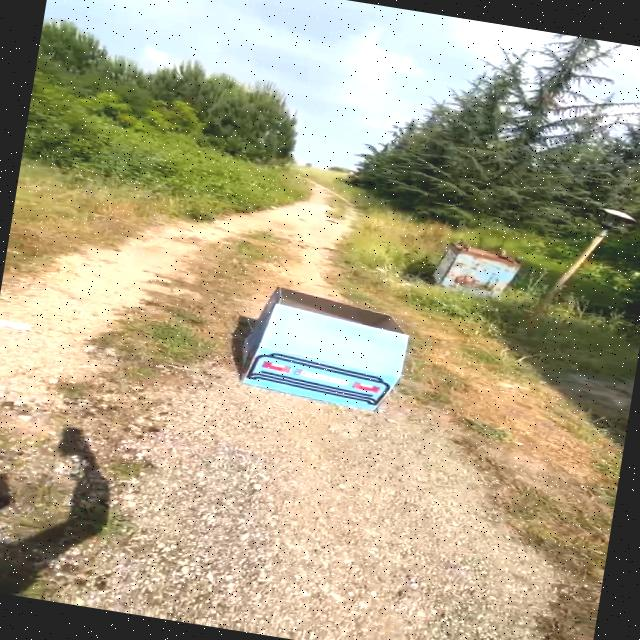blue_car: (210, 265, 432, 428)
